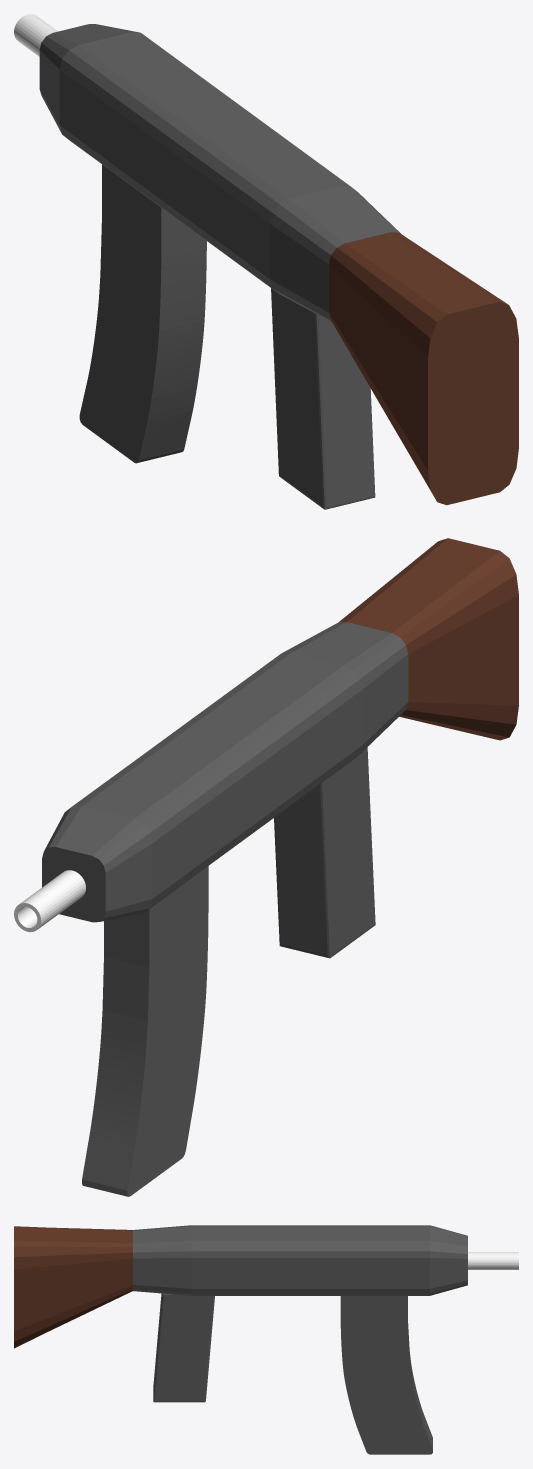
The model's file is AssaultRifle.fbx.
3 views of the same model, one above another, from view 1: azimuth 30°, elevation 25°; view 2: azimuth 150°, elevation 25°; view 3: azimuth 270°, elevation 25° (orthographic). The views are drawn at different scales.
Visible parts, largest first — view 1: Body, Magazine, Handle, Barrel; view 2: Body, Magazine, Handle, Barrel; view 3: Body, Magazine, Handle, Barrel.
Part boxes in pixels (<box>): Body: <box>39,24,518,505</box>; Magazine: <box>79,164,206,463</box>; Handle: <box>271,288,375,509</box>; Barrel: <box>14,14,57,56</box>; Body: <box>42,538,518,922</box>; Magazine: <box>82,866,208,1196</box>; Handle: <box>274,747,375,958</box>; Barrel: <box>14,870,85,932</box>; Body: <box>14,1225,467,1348</box>; Magazine: <box>340,1296,432,1454</box>; Handle: <box>153,1293,214,1402</box>; Barrel: <box>468,1252,518,1269</box>.
Size of the model in its own units: 200 by 798 by 1700.
